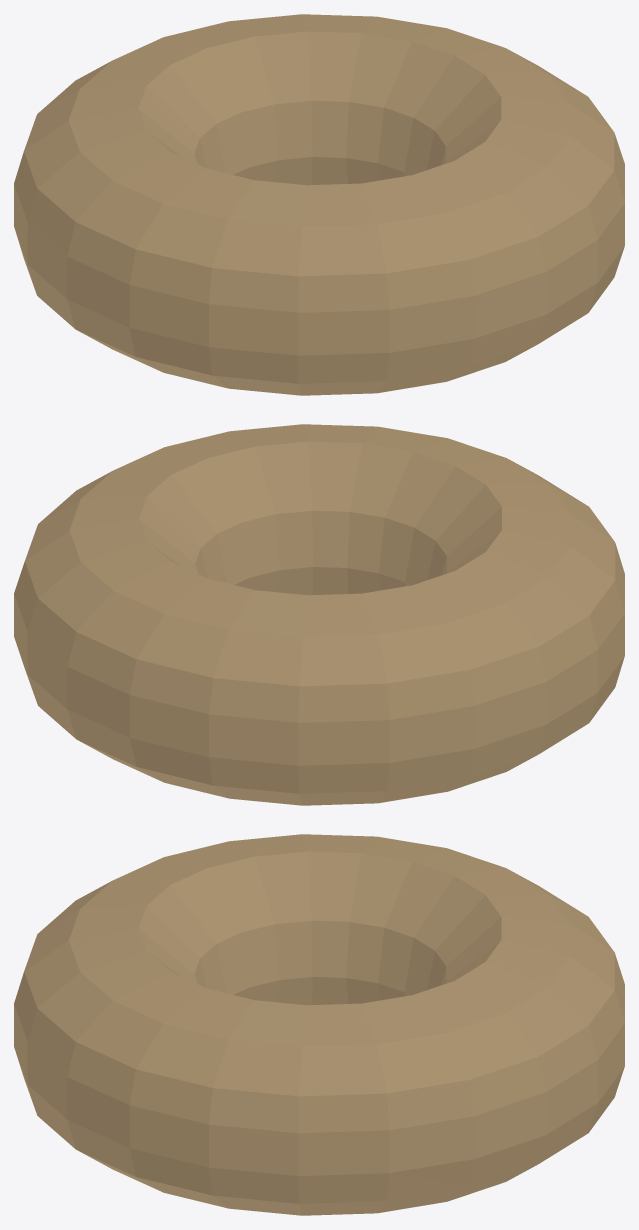
File: Donut3.glb
3 views of the same model, one above another, from view 1: azimuth 30°, elevation 25°; view 2: azimuth 150°, elevation 25°; view 3: azimuth 270°, elevation 25° (orthographic).
Visible parts, largest first — view 1: Donut3; view 2: Donut3; view 3: Donut3.
Part boxes in pixels (box(x1,y1,x2,y2)): Donut3: box(14, 14, 624, 395); Donut3: box(14, 424, 624, 805); Donut3: box(14, 834, 624, 1215).
Size of the model in its own units: 0.8591 by 0.2801 by 0.8566.
